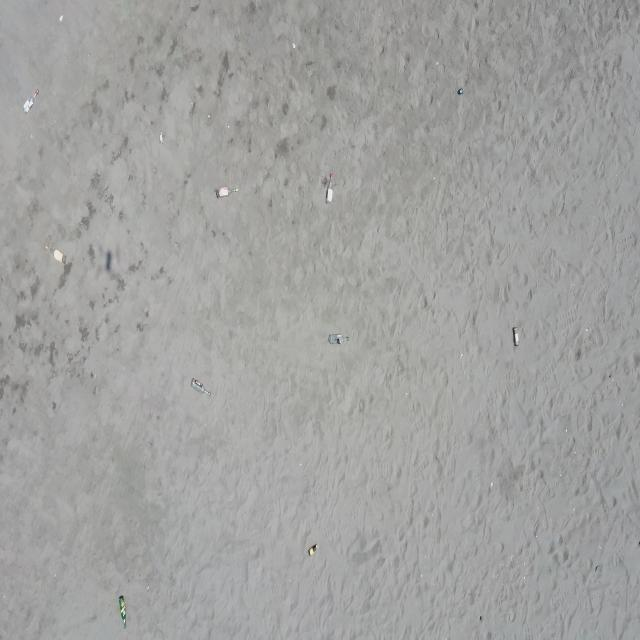glass: (45, 245, 67, 265), (23, 88, 39, 114), (190, 380, 210, 396), (119, 594, 127, 629), (216, 186, 237, 198), (327, 172, 334, 204), (328, 334, 349, 344), (514, 327, 522, 347), (308, 544, 318, 556), (458, 87, 466, 95), (159, 132, 164, 143)
